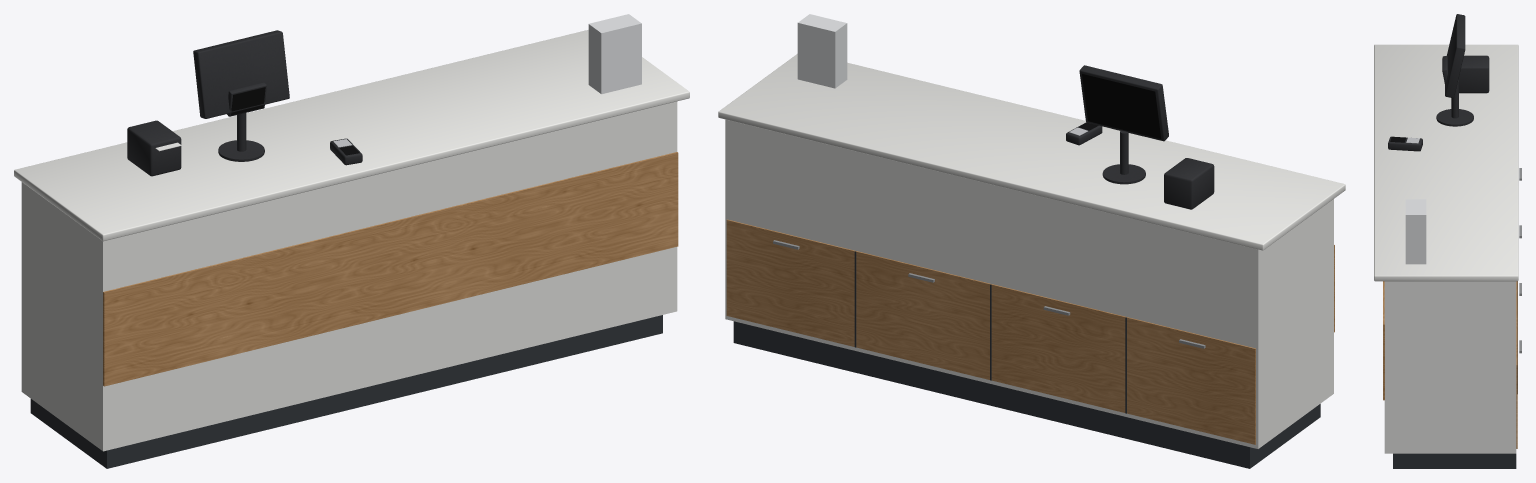
File: kasa_tezgahi.glb
3 renders of one model, left to right at view 1: azimuth 30°, elevation 25°; view 2: azimuth 150°, elevation 25°; view 3: azimuth 270°, elevation 25°, orthographic. The views are drawn at different scales.
Visible parts, largest first — view 1: Service counter - Fixtures, white laminate, Service counter - Tops and accent panels, light oak veneer, Service counter - Fascia and plinths, dark grey, Service counter - Black plastic, Service counter - Blank sign panels, matte white acrylic, Service counter - Device screens, dark glossy glass; view 2: Service counter - Fixtures, white laminate, Service counter - Tops and accent panels, light oak veneer, Service counter - Fascia and plinths, dark grey, Service counter - Black plastic, Service counter - Device screens, dark glossy glass, Service counter - Blank sign panels, matte white acrylic; view 3: Service counter - Fixtures, white laminate, Service counter - Black plastic, Service counter - Fascia and plinths, dark grey, Service counter - Blank sign panels, matte white acrylic, Service counter - Tops and accent panels, light oak veneer.
Boxes of the visible parts, box(x1,y1,x2,y2) form: Service counter - Fixtures, white laminate: box(14, 30, 689, 451); Service counter - Tops and accent panels, light oak veneer: box(103, 152, 678, 386); Service counter - Fascia and plinths, dark grey: box(30, 315, 662, 468); Service counter - Black plastic: box(127, 30, 362, 176); Service counter - Blank sign panels, matte white acrylic: box(588, 14, 641, 94); Service counter - Device screens, dark glossy glass: box(231, 87, 359, 155); Service counter - Fixtures, white laminate: box(718, 54, 1345, 448); Service counter - Tops and accent panels, light oak veneer: box(726, 219, 1334, 444); Service counter - Fascia and plinths, dark grey: box(733, 251, 1320, 468); Service counter - Black plastic: box(1066, 65, 1214, 209); Service counter - Device screens, dark glossy glass: box(1079, 73, 1161, 138); Service counter - Blank sign panels, matte white acrylic: box(797, 14, 847, 88); Service counter - Fixtures, white laminate: box(1374, 44, 1518, 453); Service counter - Black plastic: box(1388, 14, 1489, 151); Service counter - Fascia and plinths, dark grey: box(1393, 281, 1517, 468); Service counter - Blank sign panels, matte white acrylic: box(1405, 199, 1426, 264); Service counter - Tops and accent panels, light oak veneer: box(1383, 281, 1517, 448).
Size of the model in its own units: 2.62 by 1.52 by 0.706.
Materials: 9 (9 with a texture image).
